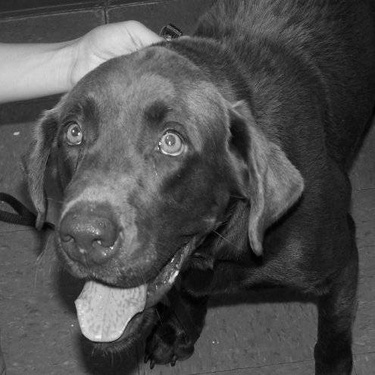dog: (7, 3, 368, 371)
